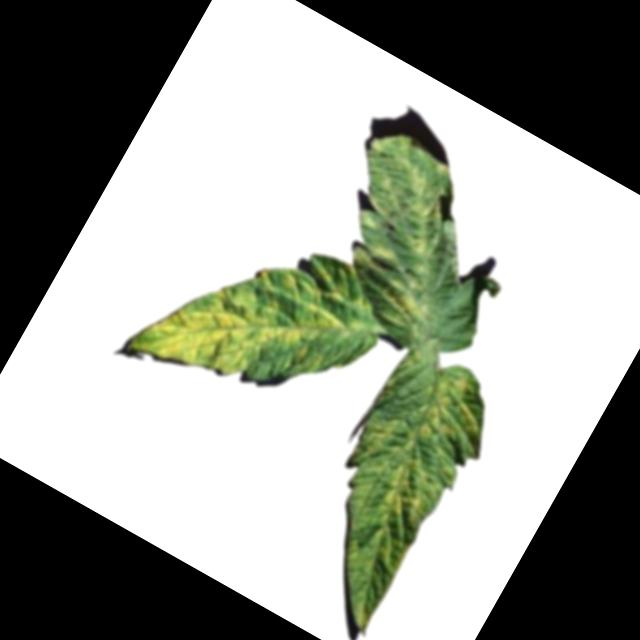Leaf_Mold: (267, 334, 512, 640), (119, 188, 395, 455), (300, 122, 503, 337)
